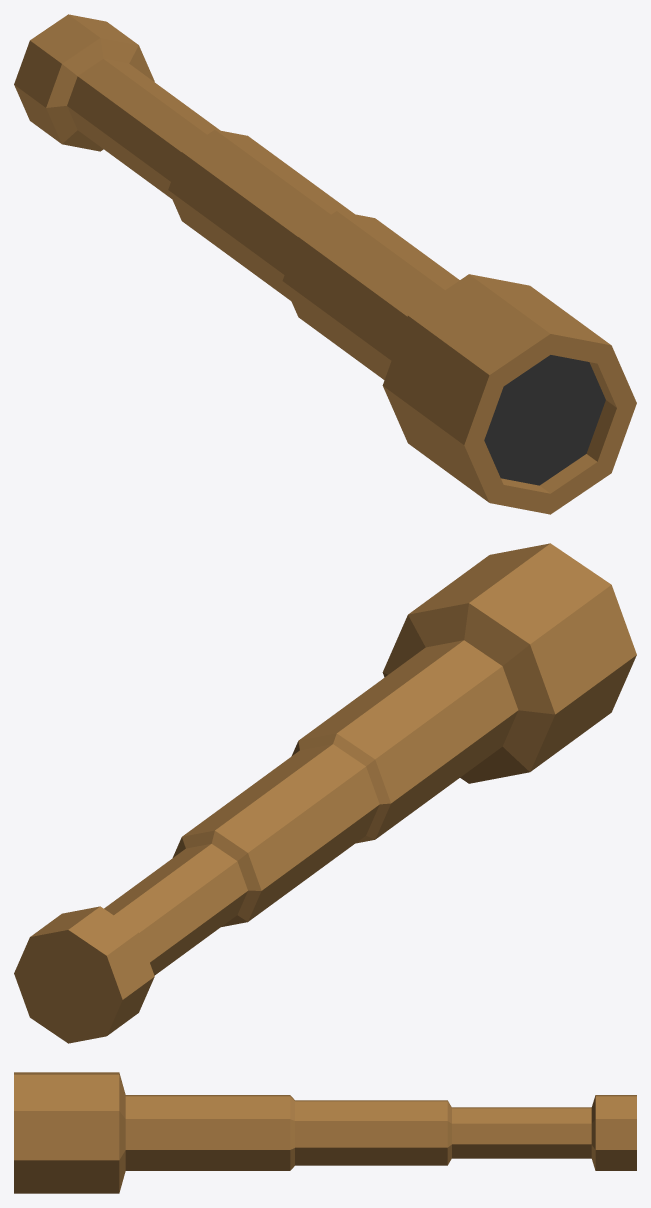
Rendered from SM_Item_Spyglass_01.glb.
The picture shows the model from 3 angles, top to bottom: view 1: azimuth 30°, elevation 25°; view 2: azimuth 150°, elevation 25°; view 3: azimuth 270°, elevation 25°; orthographic projection. The views are drawn at different scales.
Visible parts, largest first — view 1: SM_Item_Spyglass_01; view 2: SM_Item_Spyglass_01; view 3: SM_Item_Spyglass_01.
Part boxes in pixels (<box>): SM_Item_Spyglass_01: <box>14,14,636,514</box>; SM_Item_Spyglass_01: <box>14,543,636,1043</box>; SM_Item_Spyglass_01: <box>14,1072,636,1193</box>.
Bounding box in the file's own units: 0.000997 × 0.000997 × 0.00482.
